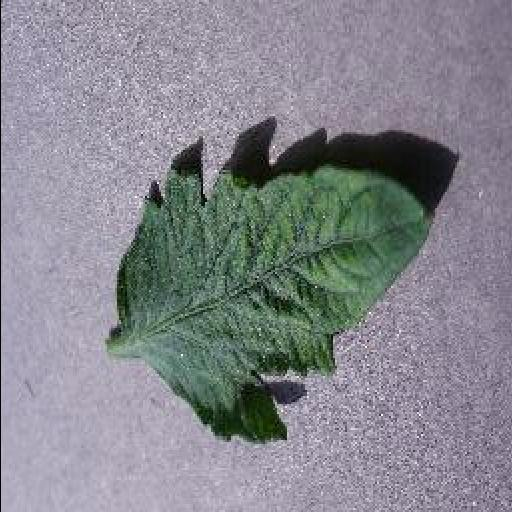disease_tomato: (113, 162, 435, 446)
